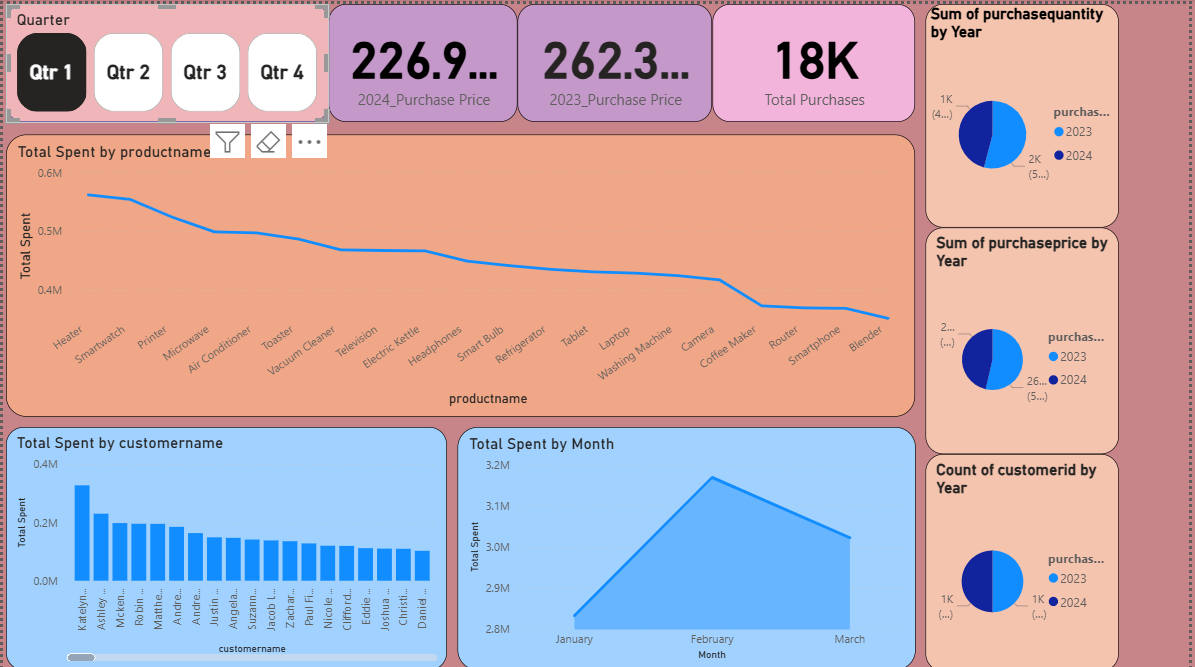

The page's visual inventory and layout, read from the dashboard file:
{"tool":"powerbi","page":{"name":"Dashboard","canvas":[1280,720],"ordinal":1},"visuals":[{"type":"card","fields":{"Values":["purchases.Total Purchases"]},"box":[765.9,0,218.6,127.2],"z":0},{"type":"card","fields":{"Values":["project cus_purchase.2023_Purchase Price"]},"box":[555.8,0,210,127.2],"z":1000},{"type":"clusteredColumnChart","fields":{"Category":["project cus_purchase.customername"],"Y":["purchases.Total Spent"]},"box":[2.9,457.2,475.8,262.9],"z":2000},{"type":"card","fields":{"Values":["project cus_purchase.2024_Purchase Price"]},"box":[351.5,0,204.3,127.2],"z":3000},{"type":"pieChart","fields":{"Y":["Sum(project cus_purchase.purchasequantity)"],"Category":["project cus_purchase.purchasedate.Variation.Date Hierarchy.Year"]},"box":[995.9,0,208.6,241.5],"z":4000},{"type":"pieChart","fields":{"Category":["project cus_purchase.purchasedate.Variation.Date Hierarchy.Year"],"Y":["Sum(project cus_purchase.purchaseprice)"]},"box":[995.9,241.5,208.6,244.3],"z":5000},{"type":"pieChart","fields":{"Category":["project cus_purchase.purchasedate.Variation.Date Hierarchy.Year"],"Y":["CountNonNull(project customers.customerid)"]},"box":[995.9,485.8,208.6,234.3],"z":6000},{"type":"areaChart","fields":{"Y":["purchases.Total Spent"],"Category":["project cus_purchase.purchasedate.Variation.Date Hierarchy.Month"]},"box":[490.1,457.2,494.4,262.9],"z":7000},{"type":"lineChart","fields":{"Category":["project products.productname"],"Y":["purchases.Total Spent"]},"box":[2.9,141.5,981.7,304.4],"z":8000},{"type":"advancedSlicerVisual","fields":{"Values":["purchases.purchasedate.Variation.Date Hierarchy.Quarter"]},"box":[2.9,0,348.7,127.2],"z":9000}]}

Visuals, with their boxes in screenshot pixels (x1, y1, x2, y2), scaled from the page's 1280x720 canvas onto the 1195x667 screenshot:
card - purchases.Total Purchases: locate(715, 0, 919, 118)
card - project cus_purchase.2023_Purchase Price: locate(519, 0, 715, 118)
clusteredColumnChart - project cus_purchase.customername x purchases.Total Spent: locate(3, 424, 447, 666)
card - project cus_purchase.2024_Purchase Price: locate(328, 0, 519, 118)
pieChart - Sum(project cus_purchase.purchasequantity) x project cus_purchase.purchasedate.Variation.Date Hierarchy.Year: locate(930, 0, 1125, 224)
pieChart - project cus_purchase.purchasedate.Variation.Date Hierarchy.Year x Sum(project cus_purchase.purchaseprice): locate(930, 224, 1125, 450)
pieChart - project cus_purchase.purchasedate.Variation.Date Hierarchy.Year x CountNonNull(project customers.customerid): locate(930, 450, 1125, 666)
areaChart - purchases.Total Spent x project cus_purchase.purchasedate.Variation.Date Hierarchy.Month: locate(458, 424, 919, 666)
lineChart - project products.productname x purchases.Total Spent: locate(3, 131, 919, 413)
advancedSlicerVisual - purchases.purchasedate.Variation.Date Hierarchy.Quarter: locate(3, 0, 328, 118)
